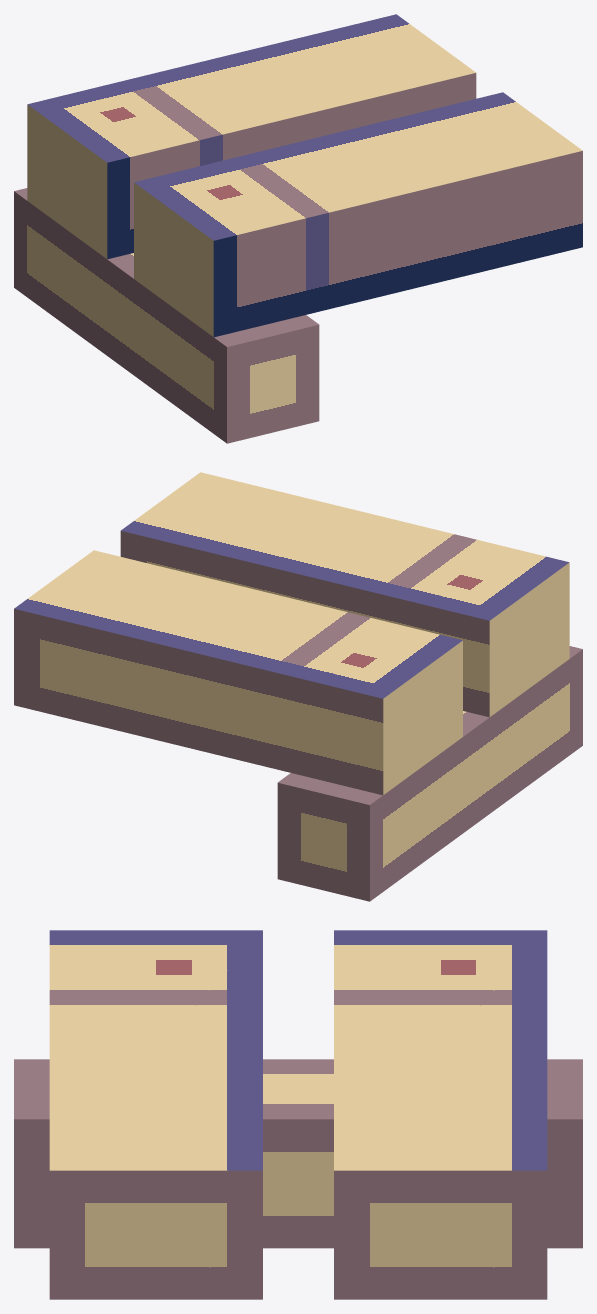
File: BridgeLeft.gltf
The picture shows the model from 3 angles, top to bottom: view 1: azimuth 30°, elevation 25°; view 2: azimuth 150°, elevation 25°; view 3: azimuth 270°, elevation 25°; orthographic projection. The views are drawn at different scales.
Parts seen in each view (by area): view 1: mesh; view 2: mesh; view 3: mesh.
Part boxes in pixels (x1,y1,x2,y2): mesh: (14,14,582,443); mesh: (14,472,582,901); mesh: (14,930,582,1299).
Size of the model in its own units: 1 by 0.5 by 1.
1 material, 1 textured.
